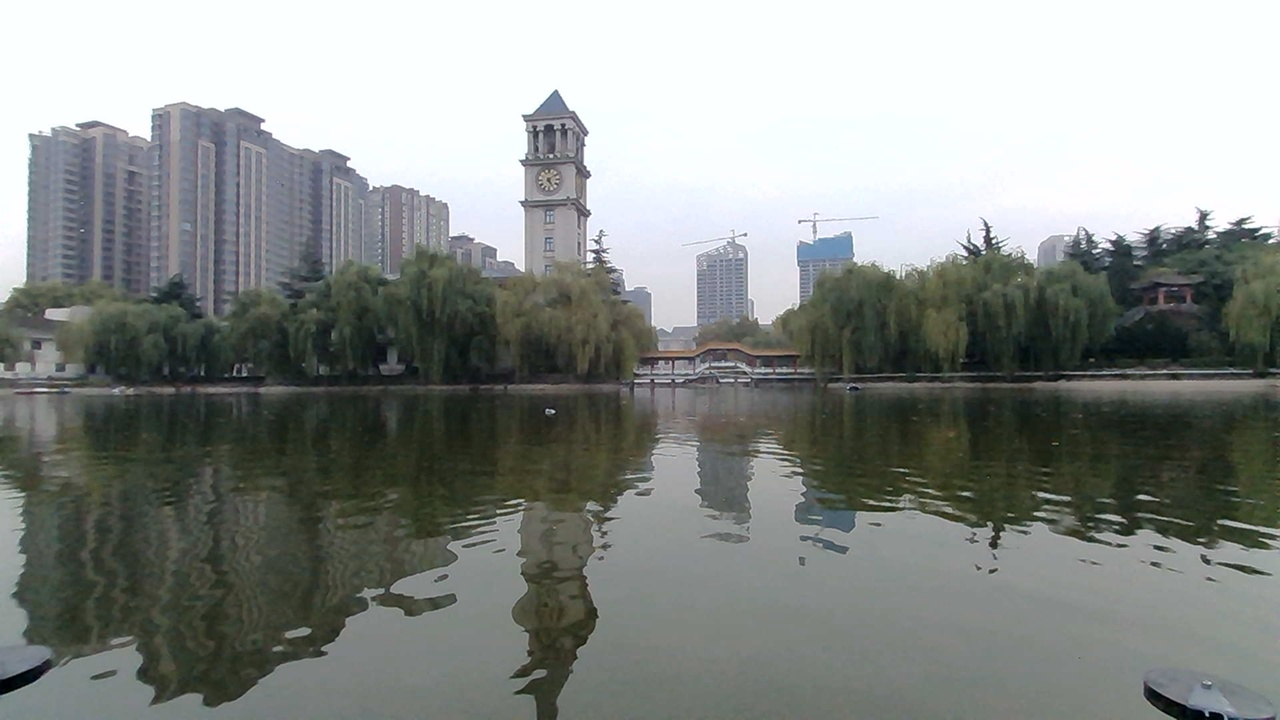bottle: (536, 403, 567, 424)
